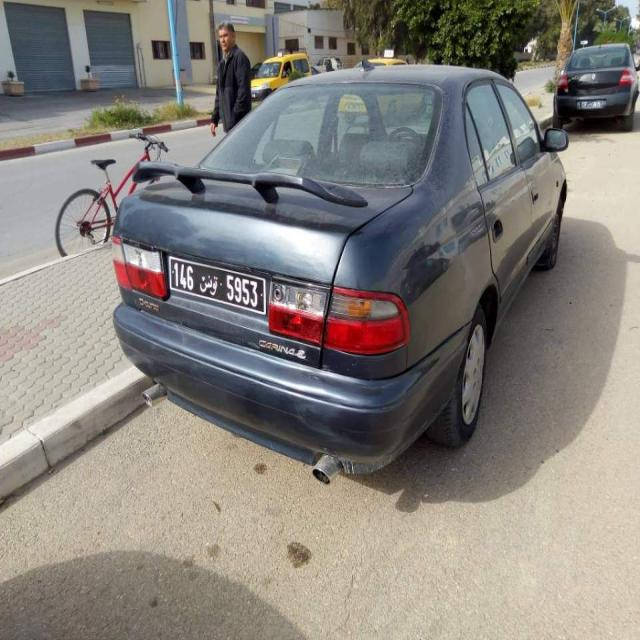LP: (167, 254, 266, 312)
